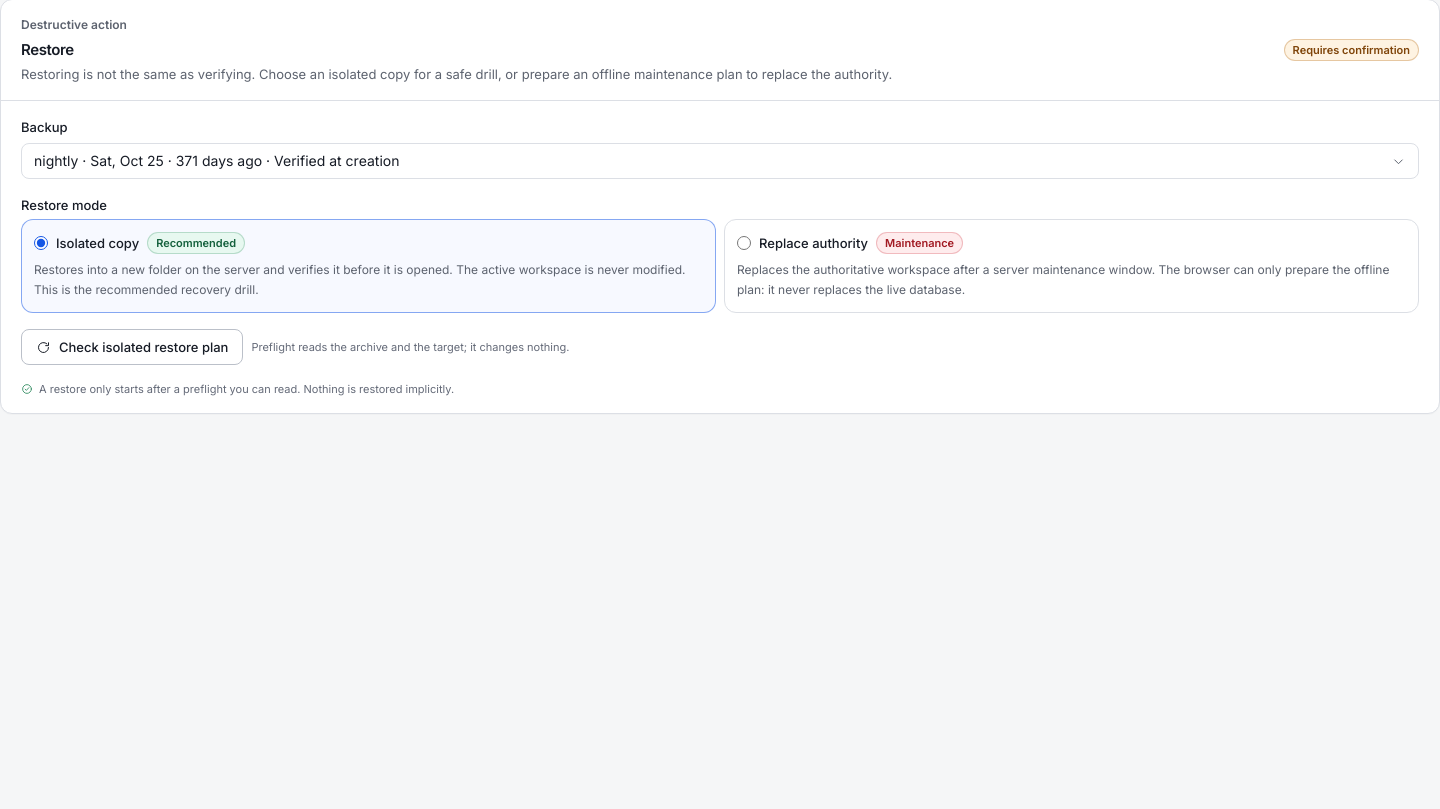
restore panel › never offers a restore button when the preflight is blocked
The width and height of the screenshot is (1440, 809).
What coordinates should you click on to do the following:
click the button "Check isolated restore plan"
I would click on:
 (132, 347)
Its box is [21,329,243,365].
(page scrolled)
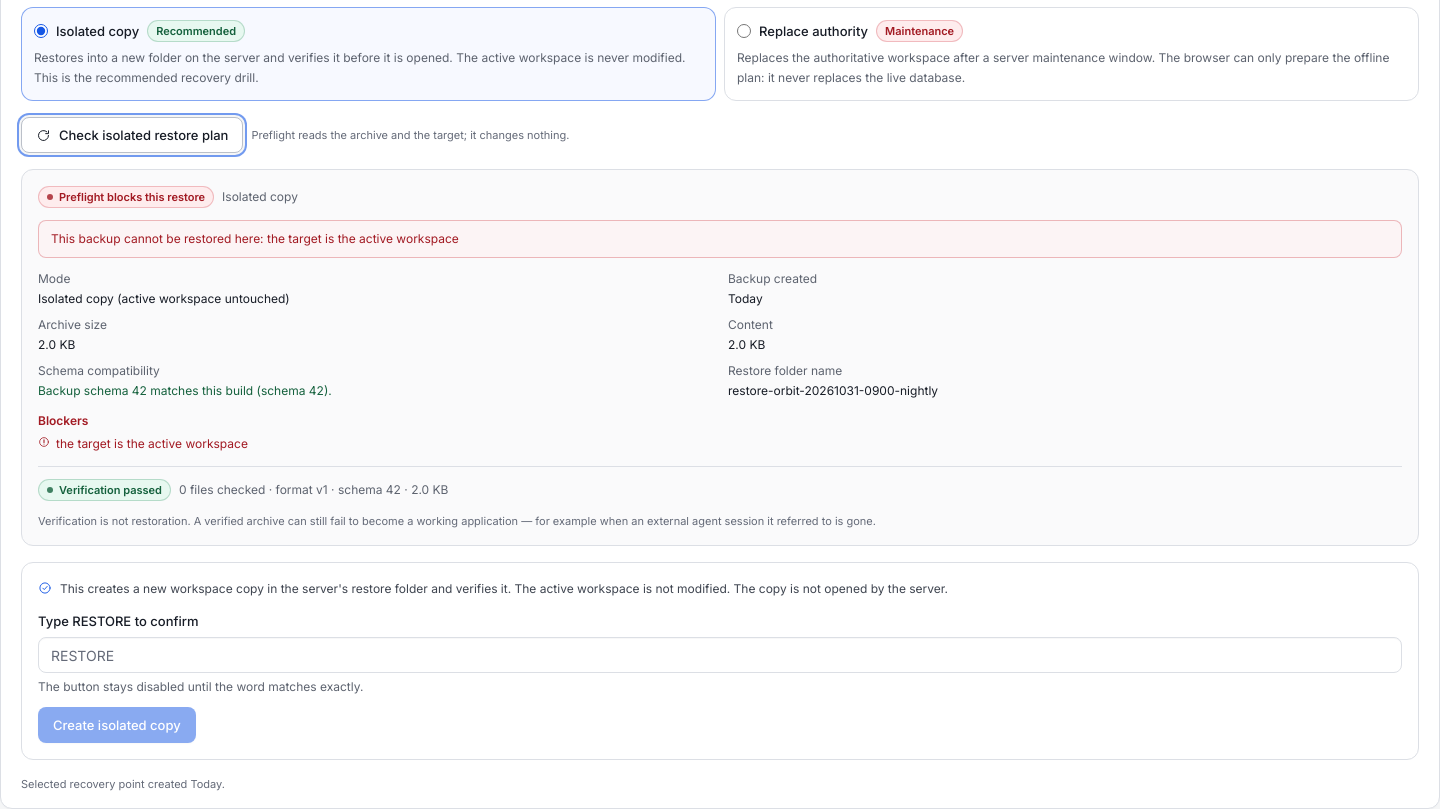
Expected: the text "Preflight blocks this restore" is shown, [38,186,214,208]
Expected: the text "This backup cannot be restored here: the target is the active workspace" is shown, [38,220,1402,258]
Expected: the button "Create isolated copy" is disabled, [38,707,196,743]
